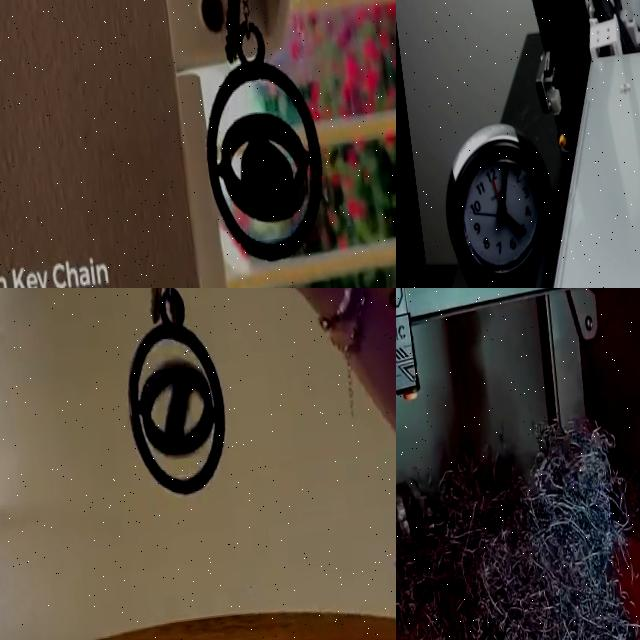spaghetti: (396, 402, 640, 640)
